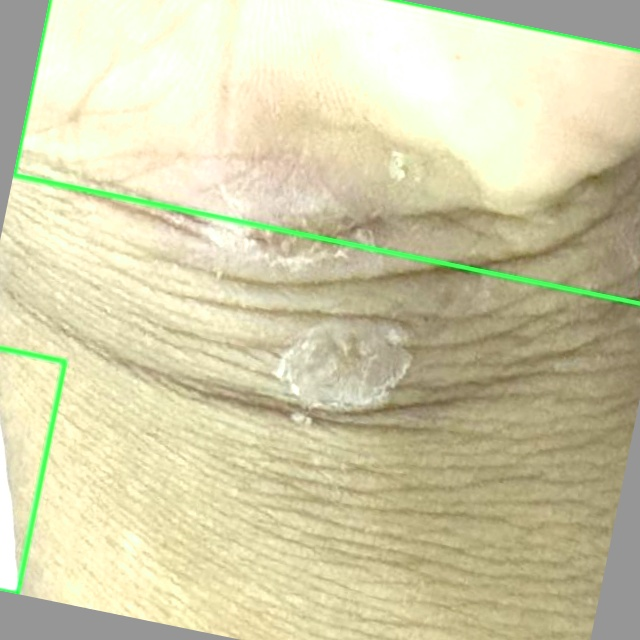Scabies: (13, 0, 639, 303)
